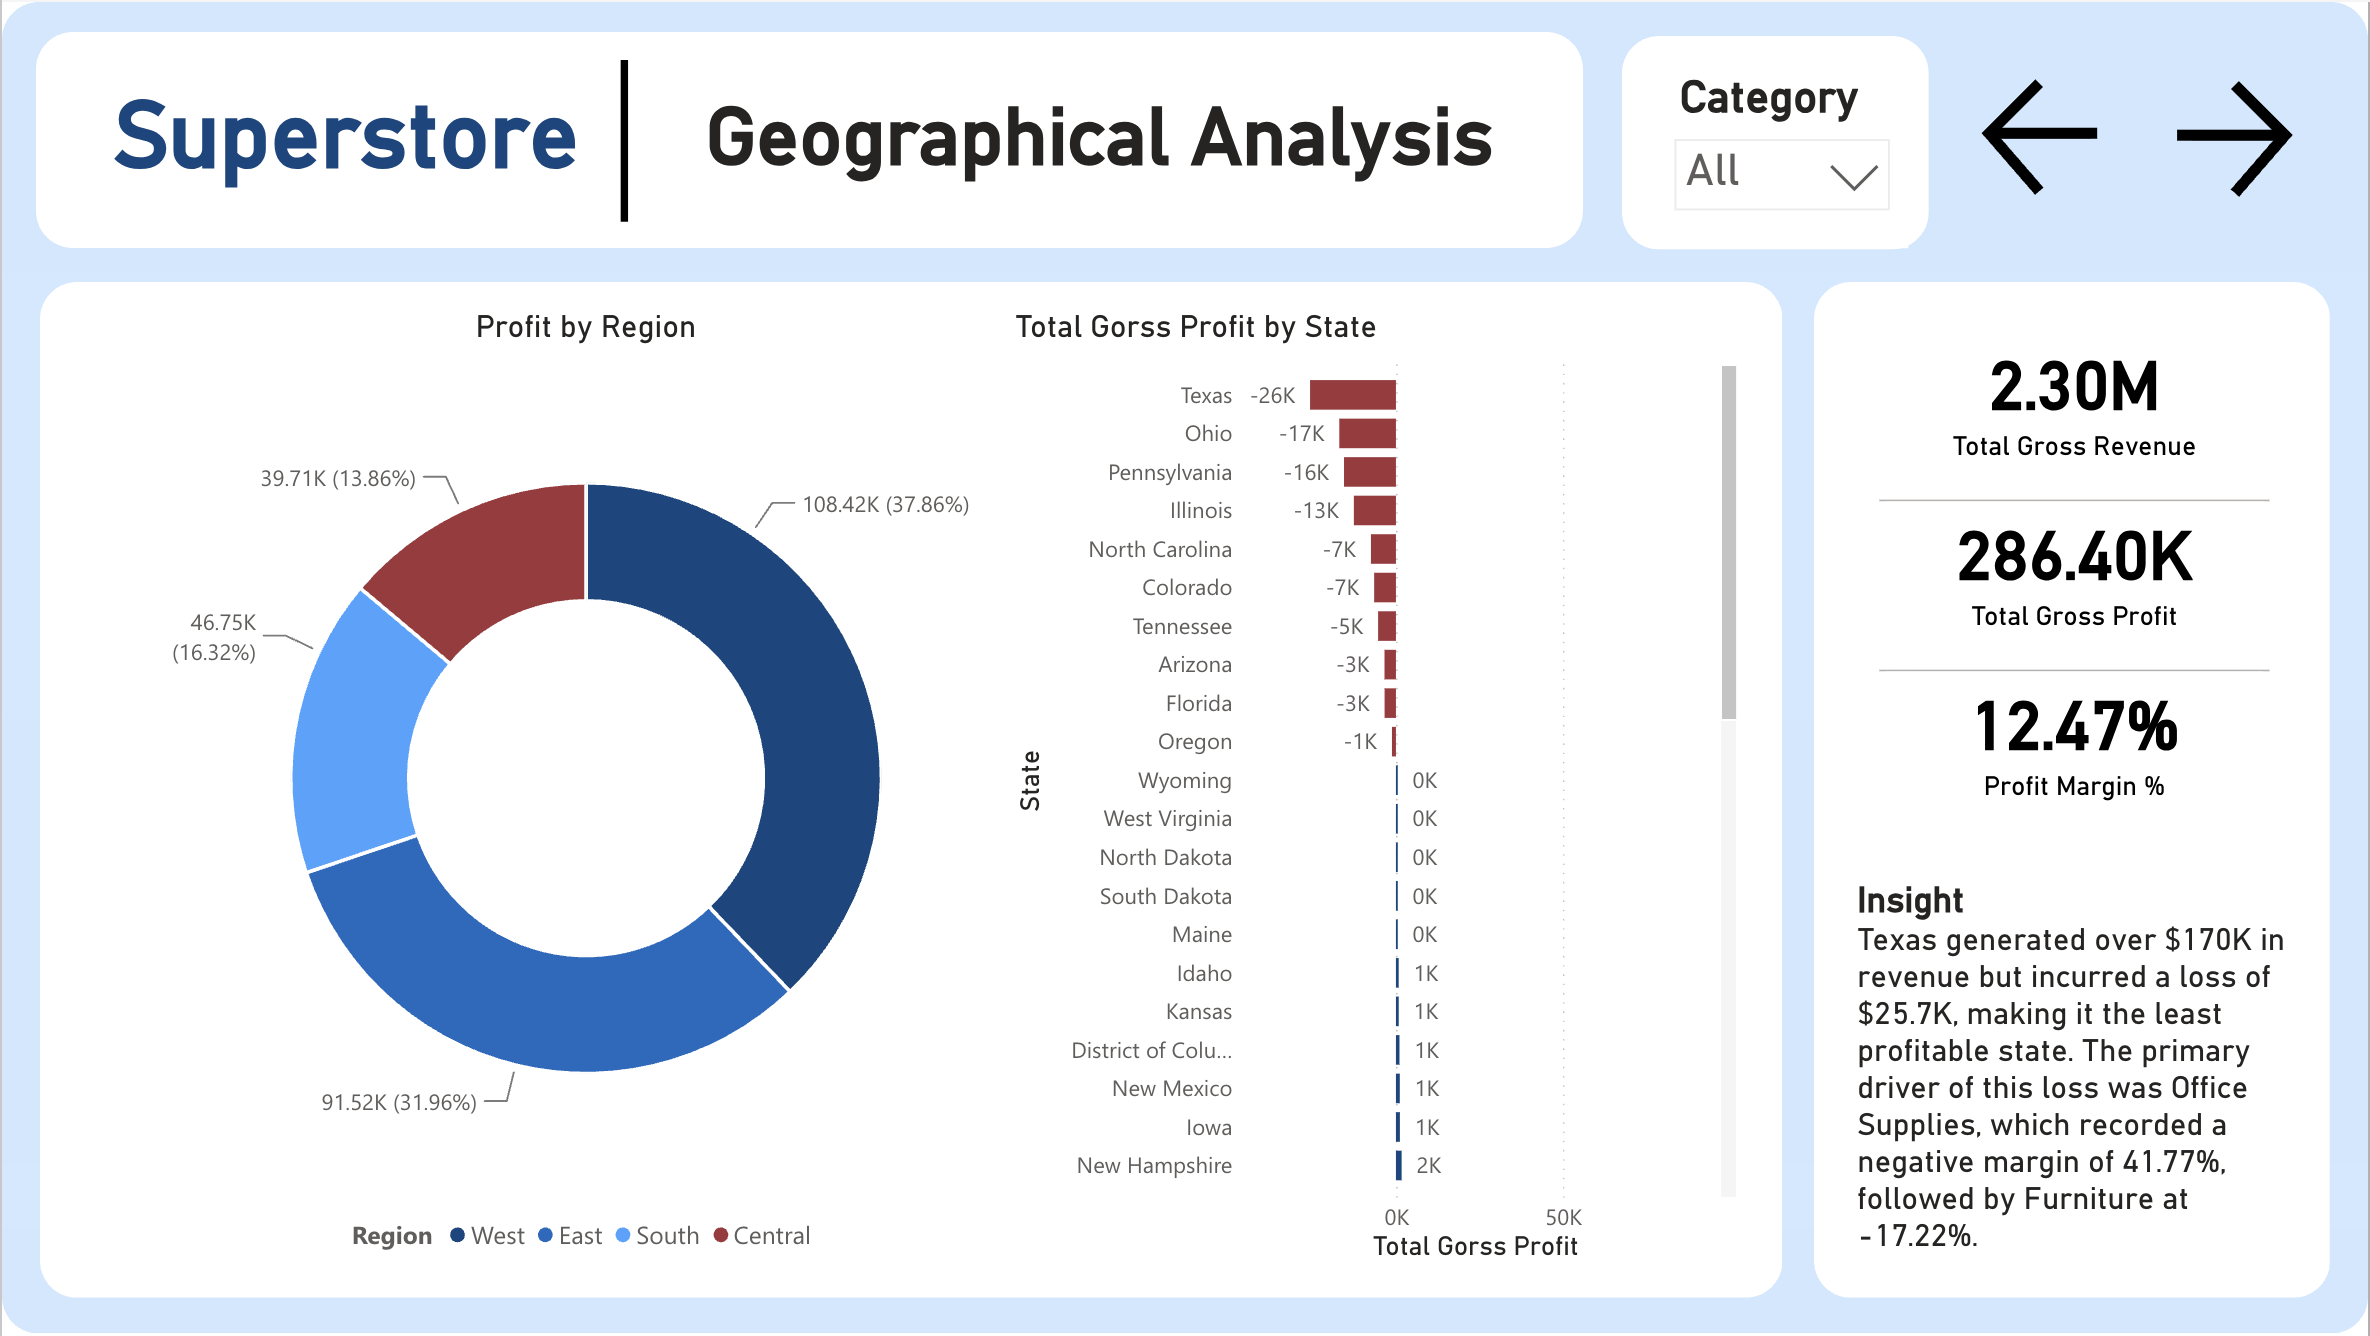

The dashboard page shown, as its layout file describes it:
{"tool":"powerbi","page":{"name":"Geographic Analysis","canvas":[1280,720],"ordinal":2},"visuals":[{"type":"shape","box":[0,0,1280,720.4],"z":0},{"type":"shape","box":[18.8,16.7,836.9,116.9],"z":1000},{"type":"textbox","box":[36.2,43,299,86.1],"z":2000},{"type":"shape","box":[283.8,31.3,106.4,87.7],"z":3000},{"type":"shape","box":[20.1,151.9,942.7,549.5],"z":4000},{"type":"actionButton","box":[1169,36.2,83.8,74.8],"z":5000},{"type":"textbox","box":[351.2,47.6,484.8,86.1],"z":6000},{"type":"shape","box":[876.6,17.9,165.9,115.5],"z":7000},{"type":"slicer","fields":{"Values":["Sample - Superstore.Category"]},"box":[894.5,35.8,136.6,97.6],"z":8000},{"type":"actionButton","box":[1066.9,35.8,82.9,74.8],"z":9000},{"type":"donutChart","title":"Profit by Region","fields":{"Category":["Sample - Superstore.Region"],"Y":["Sample - Superstore.Total Gorss Profit"]},"box":[38,167.5,556.2,518.3],"z":10000},{"type":"clusteredBarChart","fields":{"Category":["Sample - Superstore.State"],"Y":["Sample - Superstore.Total Gorss Profit"]},"box":[542.8,167.5,399.9,518.3],"z":11000},{"type":"shape","box":[980.7,151.9,279.2,549.5],"z":12000},{"type":"textbox","box":[998.5,471.3,245.7,214.5],"z":13000},{"type":"cardVisual","fields":{"Data":["Sample - Superstore.Total Gross Revenue","Sample - Superstore.Total Gorss Profit","Sample - Superstore.Profit Margin"]},"box":[998.5,160.8,245.7,310.5],"z":14000}]}

Visuals, with their boxes in screenshot pixels (x1, y1, x2, y2), scaled from the page's 1280x720 canvas onto the 2370x1336 screenshot:
shape: detection(0, 0, 2369, 1335)
shape: detection(35, 31, 1584, 248)
textbox: detection(67, 80, 621, 240)
shape: detection(525, 58, 722, 221)
shape: detection(37, 282, 1783, 1301)
actionButton: detection(2164, 67, 2320, 206)
textbox: detection(650, 88, 1548, 248)
shape: detection(1623, 33, 1930, 248)
slicer - Sample - Superstore.Category: detection(1656, 66, 1909, 248)
actionButton: detection(1975, 66, 2129, 205)
"Profit by Region" donutChart: detection(70, 311, 1100, 1273)
clusteredBarChart - Sample - Superstore.State x Sample - Superstore.Total Gorss Profit: detection(1005, 311, 1745, 1273)
shape: detection(1816, 282, 2333, 1301)
textbox: detection(1849, 875, 2304, 1273)
cardVisual - Sample - Superstore.Total Gross Revenue x Sample - Superstore.Total Gorss Profit: detection(1849, 298, 2304, 875)
